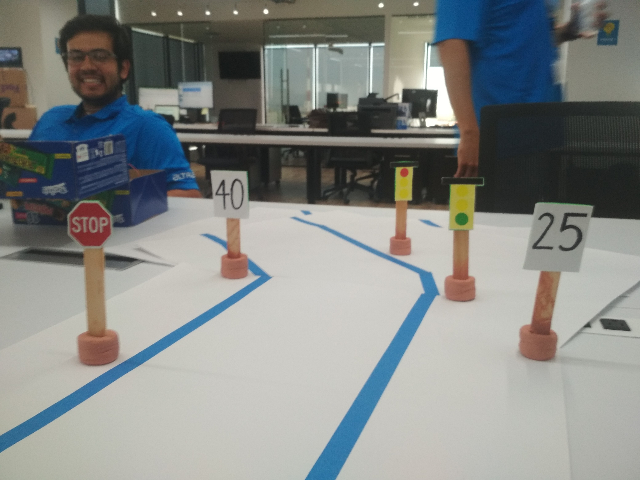Green Traffic Light: (437, 174, 485, 229)
Red Traffic Light: (387, 160, 421, 206)
Speed Limit 25: (521, 199, 592, 275)
Speed Limit 40: (208, 168, 253, 222)
Stop Sign: (65, 197, 116, 247)
